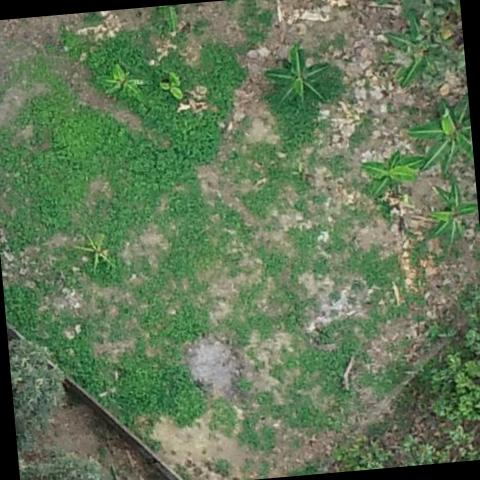Banana-plant: (380, 8, 460, 88), (406, 90, 474, 184), (262, 41, 334, 116), (420, 177, 480, 256), (362, 144, 427, 198), (98, 60, 151, 106), (73, 228, 116, 278)
